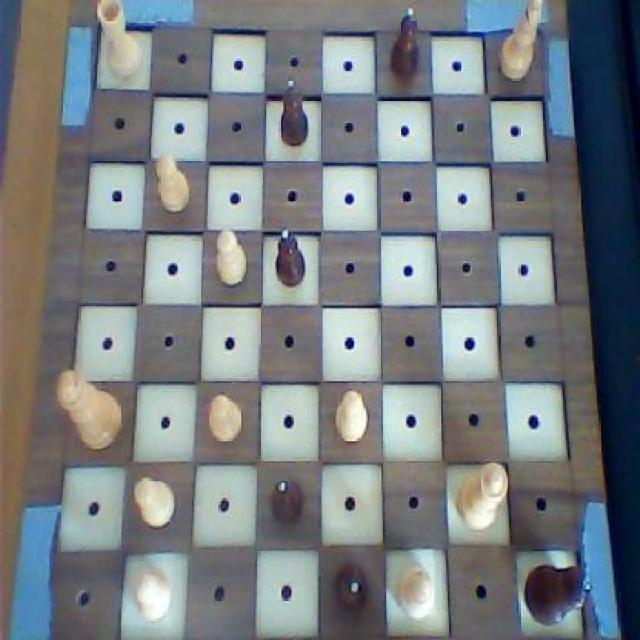black-bishop: (519, 555, 596, 631)
black-knight: (384, 5, 424, 84), (276, 74, 312, 154), (264, 472, 308, 532), (329, 560, 372, 619), (272, 226, 307, 291)
black-rook: (494, 0, 546, 86), (392, 559, 440, 623)
white-bishop: (52, 364, 124, 454)
white-knight: (151, 148, 195, 217), (132, 471, 177, 532), (203, 388, 245, 450), (130, 568, 174, 627), (212, 225, 250, 293), (331, 386, 370, 448)
white-pawn: (455, 456, 513, 536)
white-queen: (91, 0, 146, 81)
